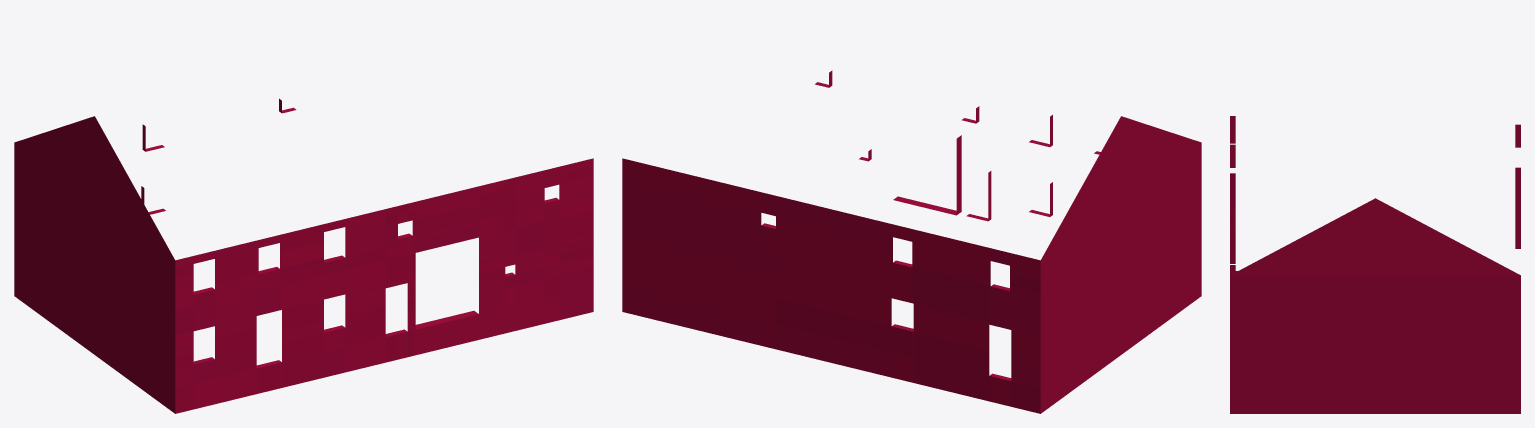
Rendered from SM_Bld_190_Masonry.glb.
3 views of the same model, side by side, from view 1: azimuth 30°, elevation 25°; view 2: azimuth 150°, elevation 25°; view 3: azimuth 270°, elevation 25° (orthographic). The views are drawn at different scales.
Parts seen in each view (by area): view 1: SM_Bld_190_Masonry; view 2: SM_Bld_190_Masonry; view 3: SM_Bld_190_Masonry.
Boxes of the visible parts, x1=… form: SM_Bld_190_Masonry: x1=14, y1=98, x2=593, y2=413; SM_Bld_190_Masonry: x1=622, y1=70, x2=1201, y2=413; SM_Bld_190_Masonry: x1=1230, y1=116, x2=1520, y2=413.
Bounding box in the file's own units: 17.1 × 9.34 × 11.4.
